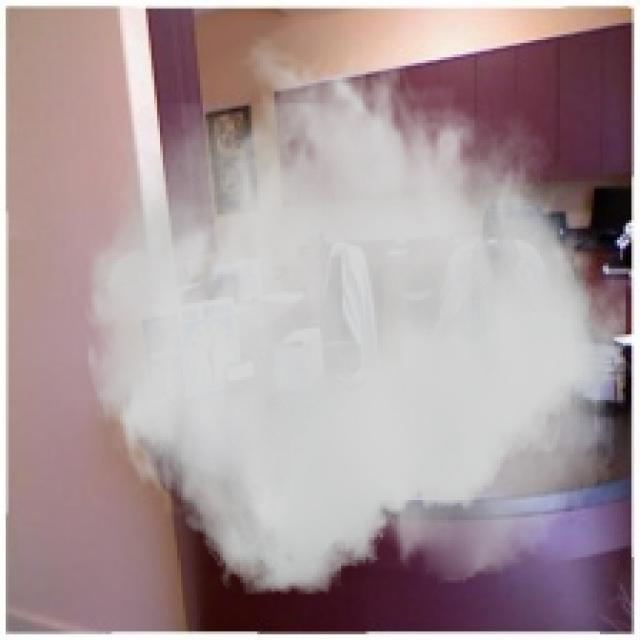smoke: (80, 34, 626, 594)
